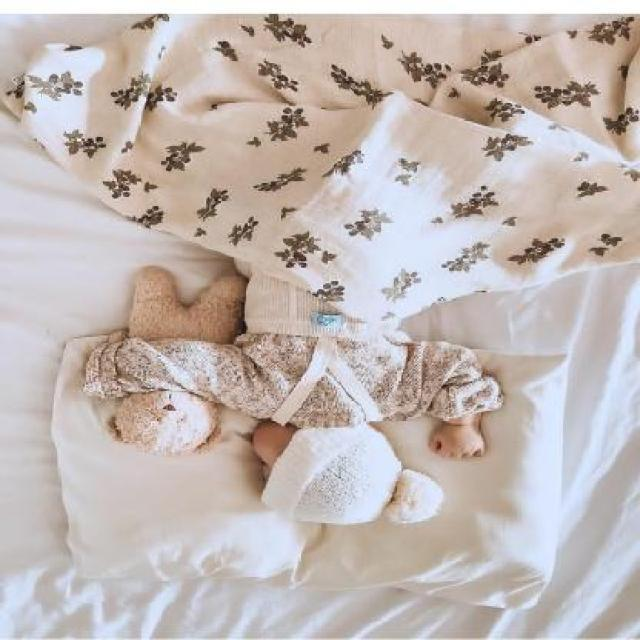baby: (83, 258, 504, 532)
